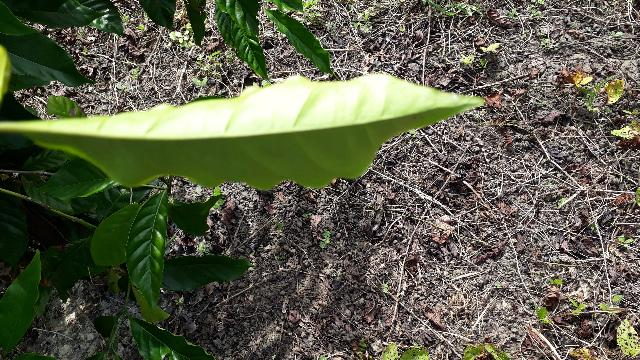healthy: (26, 71, 481, 191)
